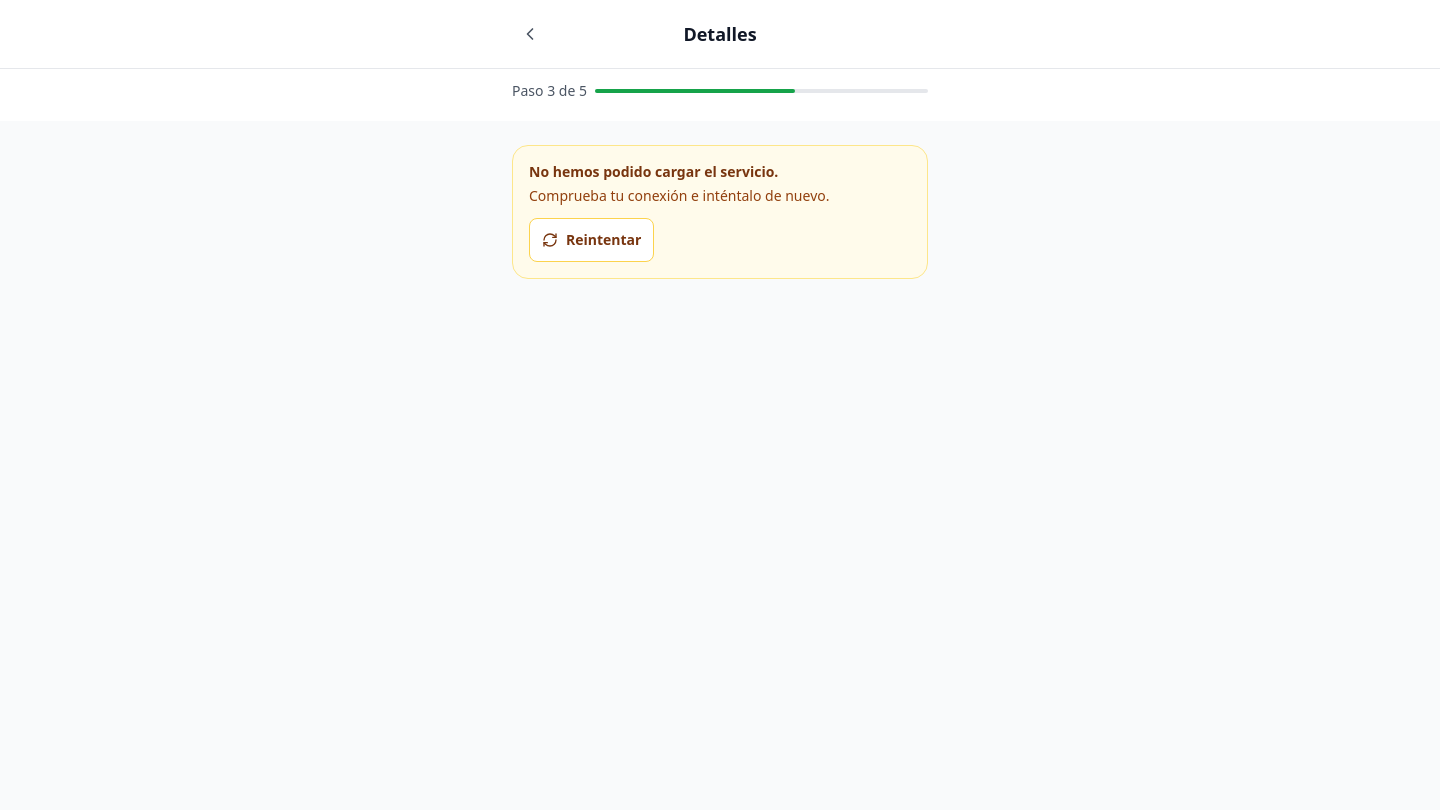
DetailsPage › si no se puede cargar el servicio, lo dice y deja reintentar
The width and height of the screenshot is (1440, 810).
Expected: the text "No hemos podido cargar el servicio." is shown, [529, 162, 778, 181]
Expected: the text "Fotos de tu jardín" is not shown
Click the button "Reintentar". click: (592, 240)
box: [529, 218, 654, 262]
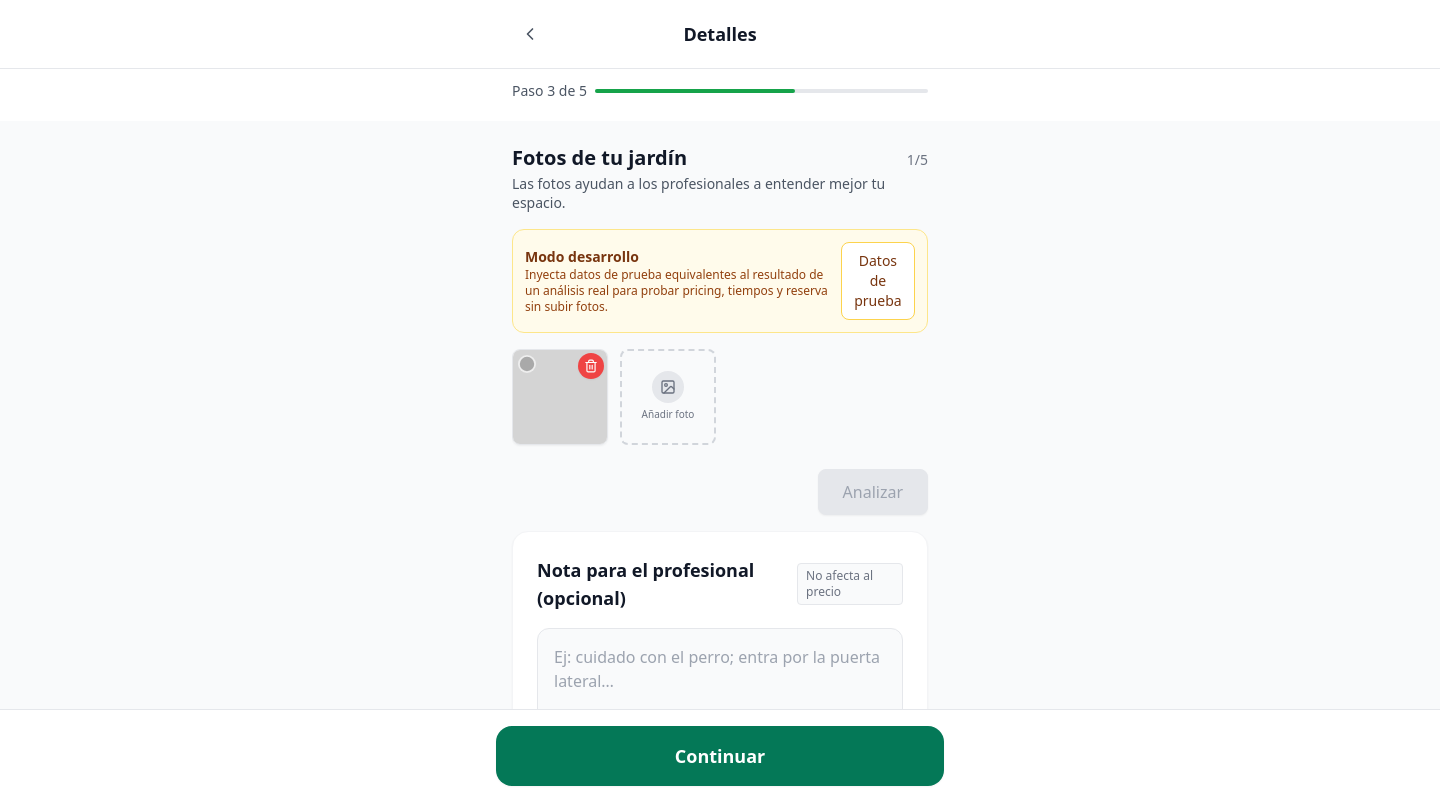
Expected: the heading "Fotos de tu jardín" is shown, [512, 145, 687, 170]
